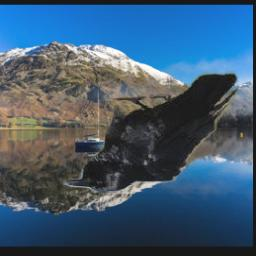Crow: (63, 72, 239, 194)
